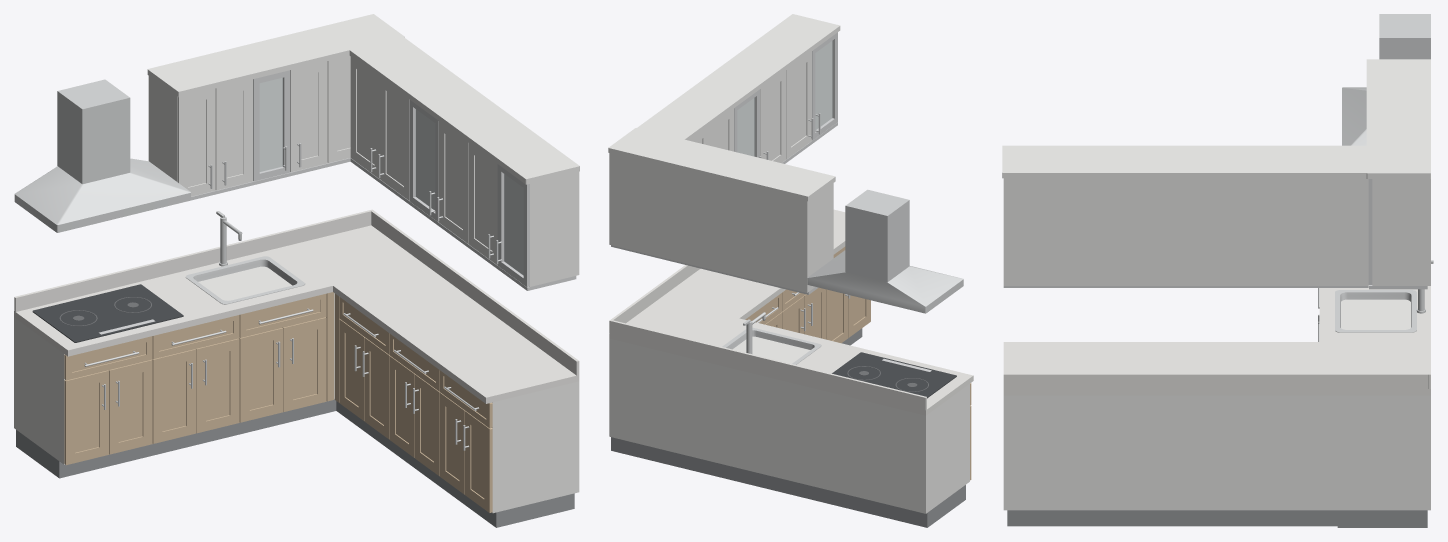
3 views of the same model, side by side, from view 1: azimuth 30°, elevation 25°; view 2: azimuth 150°, elevation 25°; view 3: azimuth 270°, elevation 25° (orthographic). The views are drawn at different scales.
Parts seen in each view (by area): view 1: Tủ bếp chữ L Dài cạnh chính=2400; Dài cạnh phụ=2400; Sâu tủ ; view 2: Tủ bếp chữ L Dài cạnh chính=2400; Dài cạnh phụ=2400; Sâu tủ ; view 3: Tủ bếp chữ L Dài cạnh chính=2400; Dài cạnh phụ=2400; Sâu tủ .
Part boxes in pixels (x1,y1,x2,y2): Tủ bếp chữ L Dài cạnh chính=2400; Dài cạnh phụ=2400; Sâu tủ : (14, 14, 579, 527); Tủ bếp chữ L Dài cạnh chính=2400; Dài cạnh phụ=2400; Sâu tủ : (608, 14, 973, 527); Tủ bếp chữ L Dài cạnh chính=2400; Dài cạnh phụ=2400; Sâu tủ : (1002, 14, 1433, 527).
Size of the model in its own units: 2.41 by 2.2 by 2.42.
